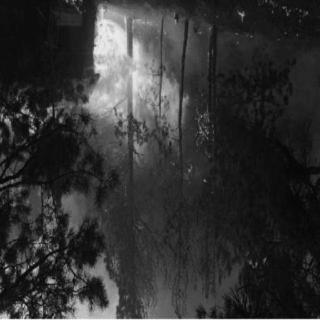Fire: (89, 6, 203, 217)
